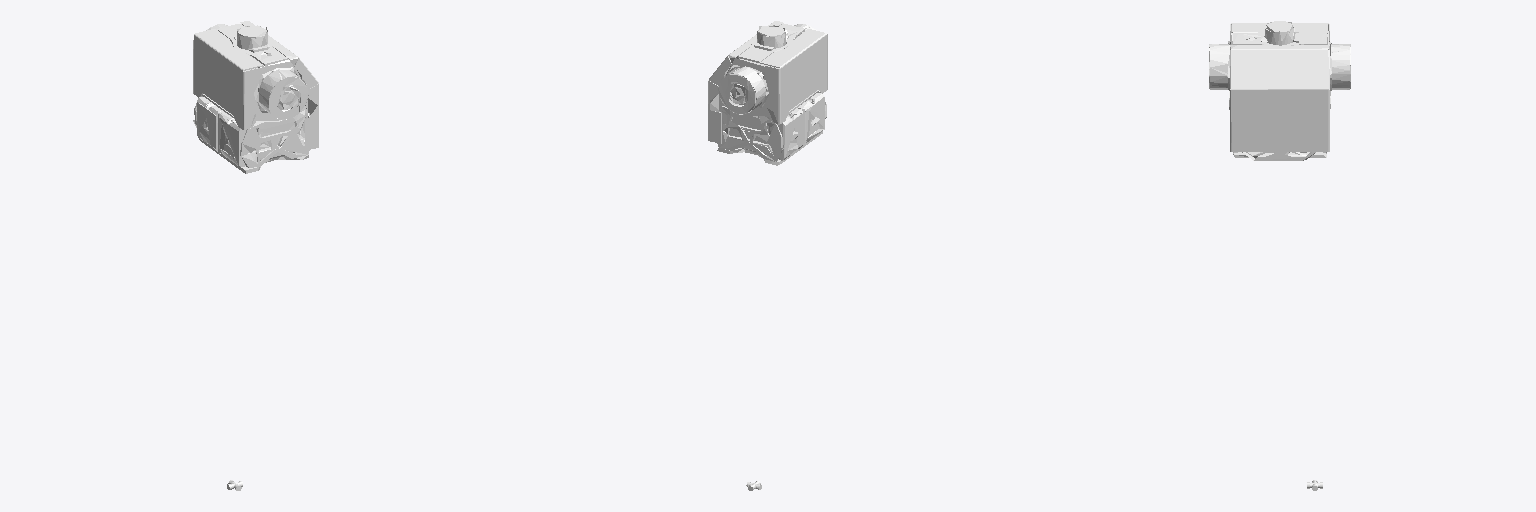
robot.urdf — biped_v3:
<?xml version="1.0" ?>
<!-- =================================================================================== -->
<!-- |    This document was autogenerated by xacro from [local-path]/workspace/kuavo-ros-control/src/humanoid-control/humanoid_interface_drake/models/biped_gen4.2/urdf/biped_v3.xacro | -->
<!-- |    EDITING THIS FILE BY HAND IS NOT RECOMMENDED                                 | -->
<!-- =================================================================================== -->
<robot name="biped_v3" xmlns:drake="https://drake.mit.edu">
  <link name="torso">
    <inertial>
      <origin xyz="-0.05314994 9.11e-06 -0.01641695" rpy="0 0 0" />
      <mass value="18.5414837" />
      <inertia ixx="0.05525329" ixy="-2.8e-05" ixz="-0.01574835" iyy="0.04625376" iyz="1.212e-05" izz="0.05615769" />
    </inertial>
    <visual>
      <origin xyz="0 0 0" rpy="0 0 0" />
      <geometry>
        <mesh filename="../../meshes/torso.STL" />
      </geometry>
      <material name="">
        <color rgba="1 1 1 1" />
      </material>
    </visual>
    <!-- <collision>
      <origin xyz="0 0 0" rpy="0 0 0" />
      <geometry>
        <mesh filename="../../meshes/torso.STL" />
      </geometry>
    </collision> -->
  </link>
  <link name="waist_yaw">
    <inertial>
      <origin xyz="0.00052643 -0.00072999 0.14211467" rpy="0 0 0" />
      <mass value="15.18745152" />
      <inertia ixx="0.22034662" ixy="0.0001736" ixz="0.00293947" iyy="0.1532304" iyz="0.00123948" izz="0.16566744" />
    </inertial>
    <visual>
      <origin xyz="0 0 0" rpy="0 0 0" />
      <geometry>
        <mesh filename="../../meshes/waist_yaw.STL" />
      </geometry>
      <material name="">
        <color rgba="1 1 1 1" />
      </material>
    </visual>
  </link>
  <joint name="waist_yaw" type="fixed">
    <origin xyz="0 0 0.107" rpy="0 0 0" />
    <parent link="torso" />
    <child link="waist_yaw" />
    <axis xyz="0 0 1" />
    <limit lower="-0.314159265358979" upper="0.663225115757845" effort="180.0" velocity="23.55" />
  </joint>
  <link name="leg_l1_link">
    <inertial>
      <origin xyz="-0.00430148 -2.708e-05 -0.00851195" rpy="0 0 0" />
      <mass value="1.71093115" />
      <inertia ixx="0.00206092" ixy="2e-05" ixz="6.944e-05" iyy="0.00277274" iyz="-5.1e-05" izz="0.00370826" />
    </inertial>
    <visual>
      <origin xyz="0 0 0" rpy="0 0 0" />
      <geometry>
        <mesh filename="../../meshes/l_leg_roll.STL" />
      </geometry>
      <material name="">
        <color rgba="1 1 1 1" />
      </material>
    </visual>
  </link>
  <joint name="leg_l1_joint" type="revolute">
    <origin xyz="-0.0024999 0.087 -0.066" rpy="0 0 0" />
    <parent link="torso" />
    <child link="leg_l1_link" />
    <axis xyz="1 0 0" />
    <limit lower="-0.314159265358979" upper="0.663225115757845" effort="180.0" velocity="23.55" />
    <dynamics damping="0.2" friction="0.1" />
  </joint>
  <transmission type="SimpleTransmission">
    <joint name="leg_l1_joint" />
    <actuator name="leg_l1_joint_motor" />
  </transmission>
  <link name="leg_l2_link">
    <inertial>
      <origin xyz="0.0 -0.00231118 -0.09062539" rpy="0 0 0" />
      <mass value="0.58029165" />
      <inertia ixx="0.00223984" ixy="0.0" ixz="3e-05" iyy="0.00123175" iyz="-7e-05" izz="0.00146391" />
    </inertial>
    <visual>
      <origin xyz="0 0 0" rpy="0 0 0" />
      <geometry>
        <mesh filename="../../meshes/l_leg_yaw.STL" />
      </geometry>
      <material name="">
        <color rgba="1 1 1 1" />
      </material>
    </visual>
  </link>
  <joint name="leg_l2_joint" type="revolute">
    <origin xyz="0 0 0" rpy="0 0 0" />
    <parent link="leg_l1_link" />
    <child link="leg_l2_link" />
    <axis xyz="0 0 1" />
    <limit lower="-0.872664625997165" upper="0.785398163397448" effort="100.0" velocity="41.3433333333333" />
    <dynamics damping="0.2" friction="0.1" />
  </joint>
  <transmission type="SimpleTransmission">
    <joint name="leg_l2_joint" />
    <actuator name="leg_l2_joint_motor" />
  </transmission>
  <link name="leg_l3_link">
    <inertial>
      <origin xyz="0.00150537 0.01199614 -0.08411619" rpy="0 0 0" />
      <mass value="4.50393141" />
      <inertia ixx="0.0389365" ixy="7.866e-05" ixz="0.00102086" iyy="0.03942609" iyz="0.00219138" izz="0.00999961" />
    </inertial>
    <visual>
      <origin xyz="0 0 0" rpy="0 0 0" />
      <geometry>
        <mesh filename="../../meshes/l_leg_pitch.STL" />
      </geometry>
      <material name="">
        <color rgba="1 1 1 1" />
      </material>
    </visual>
  </link>
  <joint name="leg_l3_joint" type="revolute">
    <origin xyz="0.000500354536093913 -0.00100000000000011 -0.1287" rpy="0 0 0" />
    <parent link="leg_l2_link" />
    <child link="leg_l3_link" />
    <axis xyz="0 1 0" />
    <limit lower="-2.00712863979348" upper="1.5707963267949" effort="100.0" velocity="41.3433333333333" />
    <dynamics damping="0.2" friction="0.1" />
  </joint>
  <transmission type="SimpleTransmission">
    <joint name="leg_l3_joint" />
    <actuator name="leg_l3_joint_motor" />
  </transmission>
  <link name="leg_l4_link">
    <inertial>
      <origin xyz="0.00696242 5.314e-05 -0.11549851" rpy="0 0 0" />
      <mass value="1.62776815" />
      <inertia ixx="0.01243912" ixy="-2.3e-05" ixz="5.881e-05" iyy="0.01229563" iyz="-2.895e-05" izz="0.00097937" />
    </inertial>
    <visual>
      <origin xyz="0 0 0" rpy="0 0 0" />
      <geometry>
        <mesh filename="../../meshes/l_knee.STL" />
      </geometry>
      <material name="">
        <color rgba="1 1 1 1" />
      </material>
    </visual>
  </link>
  <joint name="leg_l4_joint" type="revolute">
    <origin xyz="-6.87185435835039E-05 0 -0.284" rpy="0 0 0" />
    <parent link="leg_l3_link" />
    <child link="leg_l4_link" />
    <axis xyz="0 1 0" />
    <limit lower="0.0" upper="2.53072741539178" effort="180.0" velocity="23.55" />
    <dynamics damping="0.2" friction="0.1" />
  </joint>
  <transmission type="SimpleTransmission">
    <joint name="leg_l4_joint" />
    <actuator name="leg_l4_joint_motor" />
  </transmission>
  <link name="leg_l5_link">
    <inertial>
      <origin xyz="0.0 0.0 0.0" rpy="0 0 0" />
      <mass value="0.07193524" />
      <inertia ixx="6.9e-05" ixy="0.0" ixz="0.0" iyy="6.9e-05" iyz="0.0" izz="1.218e-05" />
    </inertial>
    <visual>
      <origin xyz="0 0 0" rpy="0 0 0" />
      <geometry>
        <mesh filename="../../meshes/l_foot_pitch.STL" />
      </geometry>
      <material name="">
        <color rgba="1 1 1 1" />
      </material>
    </visual>
  </link>
  <joint name="leg_l5_joint" type="revolute">
    <origin xyz="-0.000431635992531742 0 -0.346000000000001" rpy="0 0 0" />
    <parent link="leg_l4_link" />
    <child link="leg_l5_link" />
    <axis xyz="0 1 0" />
    <limit lower="-0.872664625997165" upper="0.349065850398866" effort="36.0" velocity="23.0266666666667" />
    <dynamics damping="0.2" friction="0.1" />
  </joint>
  <transmission type="SimpleTransmission">
    <joint name="leg_l5_joint" />
    <actuator name="leg_l5_joint_motor" />
  </transmission>
  <link name="leg_l6_link">
    <inertial>
      <origin xyz="0.03732754 -2.22e-06 -0.03883977" rpy="0 0 0" />
      <mass value="0.49861272" />
      <inertia ixx="0.00039242" ixy="3e-05" ixz="4.664e-05" iyy="0.00158655" iyz="0.0" izz="0.00172576" />
    </inertial>
    <visual>
      <origin xyz="0 0 0" rpy="0 0 0" />
      <geometry>
        <mesh filename="../../meshes/l_foot_roll.STL" />
      </geometry>
      <material name="">
        <color rgba="1 1 1 1" />
      </material>
    </visual>
  </link>
  <joint name="leg_l6_joint" type="revolute">
    <origin xyz="0 0 0" rpy="0 0 0" />
    <parent link="leg_l5_link" />
    <child link="leg_l6_link" />
    <axis xyz="1 0 0" />
    <limit lower="-0.261799387799149" upper="0.261799387799149" effort="36.0" velocity="23.0266666666667" />
    <dynamics damping="0.2" friction="0.1" />
  </joint>
  <transmission type="SimpleTransmission">
    <joint name="leg_l6_joint" />
    <actuator name="leg_l6_joint_motor" />
  </transmission>
  <frame link="leg_l6_link" name="l_foot_sole" xyz="0.04883799999999999 0.0 -0.0595" />
  <frame link="leg_l6_link" name="l_foot_toe" xyz="0.17084 0.0 -0.0595" />
  <frame link="leg_l6_link" name="l_foot_heel" xyz="-0.073164 0.0 -0.0595" />
  <link name="leg_r1_link">
    <inertial>
      <origin xyz="-0.00430146 2.709e-05 -0.00851195" rpy="0 0 0" />
      <mass value="1.71093008" />
      <inertia ixx="0.00206092" ixy="-2e-05" ixz="6.944e-05" iyy="0.00277274" iyz="5.1e-05" izz="0.00370826" />
    </inertial>
    <visual>
      <origin xyz="0 0 0" rpy="0 0 0" />
      <geometry>
        <mesh filename="../../meshes/r_leg_roll.STL" />
      </geometry>
      <material name="">
        <color rgba="1 1 1 1" />
      </material>
    </visual>
  </link>
  <joint name="leg_r1_joint" type="revolute">
    <origin xyz="-0.0024999 -0.087 -0.066" rpy="0 0 0" />
    <parent link="torso" />
    <child link="leg_r1_link" />
    <axis xyz="1 0 0" />
    <limit lower="-0.663225115757845" upper="0.314159265358979" effort="180.0" velocity="23.55" />
    <dynamics damping="0.2" friction="0.1" />
  </joint>
  <transmission type="SimpleTransmission">
    <joint name="leg_r1_joint" />
    <actuator name="leg_r1_joint_motor" />
  </transmission>
  <link name="leg_r2_link">
    <inertial>
      <origin xyz="0.0 0.00231118 -0.09062539" rpy="0 0 0" />
      <mass value="0.58029165" />
      <inertia ixx="0.00223984" ixy="0.0" ixz="-3e-05" iyy="0.00123175" iyz="7e-05" izz="0.00146391" />
    </inertial>
    <visual>
      <origin xyz="0 0 0" rpy="0 0 0" />
      <geometry>
        <mesh filename="../../meshes/r_leg_yaw.STL" />
      </geometry>
      <material name="">
        <color rgba="1 1 1 1" />
      </material>
    </visual>
  </link>
  <joint name="leg_r2_joint" type="revolute">
    <origin xyz="0 0 0" rpy="0 0 0" />
    <parent link="leg_r1_link" />
    <child link="leg_r2_link" />
    <axis xyz="0 0 1" />
    <limit lower="-0.785398163397448" upper="0.872664625997165" effort="100.0" velocity="41.3433333333333" />
    <dynamics damping="0.2" friction="0.1" />
  </joint>
  <transmission type="SimpleTransmission">
    <joint name="leg_r2_joint" />
    <actuator name="leg_r2_joint_motor" />
  </transmission>
  <link name="leg_r3_link">
    <inertial>
      <origin xyz="0.00208315 -0.01199644 -0.08411379" rpy="0 0 0" />
      <mass value="4.50385993" />
      <inertia ixx="0.03893478" ixy="-7.792e-05" ixz="0.00103064" iyy="0.03942522" iyz="-0.00219154" izz="0.01000016" />
    </inertial>
    <visual>
      <origin xyz="0 0 0" rpy="0 0 0" />
      <geometry>
        <mesh filename="../../meshes/r_leg_pitch.STL" />
      </geometry>
      <material name="">
        <color rgba="1 1 1 1" />
      </material>
    </visual>
  </link>
  <joint name="leg_r3_joint" type="revolute">
    <origin xyz="-4.88006581312577E-05 0 -0.1287" rpy="0 0 0" />
    <parent link="leg_r2_link" />
    <child link="leg_r3_link" />
    <axis xyz="0 1 0" />
    <limit lower="-2.00712863979348" upper="1.5707963267949" effort="100.0" velocity="41.3433333333333" />
    <dynamics damping="0.2" friction="0.1" />
  </joint>
  <transmission type="SimpleTransmission">
    <joint name="leg_r3_joint" />
    <actuator name="leg_r3_joint_motor" />
  </transmission>
  <link name="leg_r4_link">
    <inertial>
      <origin xyz="0.00743231 -5.343e-05 -0.11558701" rpy="0 0 0" />
      <mass value="1.62655699" />
      <inertia ixx="0.01241258" ixy="2.3e-05" ixz="6.289e-05" iyy="0.0122692" iyz="2.902e-05" izz="0.00097927" />
    </inertial>
    <visual>
      <origin xyz="0 0 0" rpy="0 0 0" />
      <geometry>
        <mesh filename="../../meshes/r_knee.STL" />
      </geometry>
      <material name="">
        <color rgba="1 1 1 1" />
      </material>
    </visual>
  </link>
  <joint name="leg_r4_joint" type="revolute">
    <origin xyz="0.000147138572785148 0 -0.283999982974744" rpy="0 0 0" />
    <parent link="leg_r3_link" />
    <child link="leg_r4_link" />
    <axis xyz="0 1 0" />
    <limit lower="0.0" upper="2.53072741539178" effort="180.0" velocity="23.55" />
    <dynamics damping="0.2" friction="0.1" />
  </joint>
  <transmission type="SimpleTransmission">
    <joint name="leg_r4_joint" />
    <actuator name="leg_r4_joint_motor" />
  </transmission>
  <link name="leg_r5_link">
    <inertial>
      <origin xyz="0.0 0.0 0.0" rpy="0 0 0" />
      <mass value="0.07193524" />
      <inertia ixx="6.9e-05" ixy="0.0" ixz="0.0" iyy="6.9e-05" iyz="0.0" izz="1.218e-05" />
    </inertial>
    <visual>
      <origin xyz="0 0 0" rpy="0 0 0" />
      <geometry>
        <mesh filename="../../meshes/r_foot_pitch.STL" />
      </geometry>
      <material name="">
        <color rgba="1 1 1 1" />
      </material>
    </visual>
  </link>
  <joint name="leg_r5_joint" type="revolute">
    <origin xyz="0.000119806050928577 0 -0.345999979257963" rpy="0 0 0" />
    <parent link="leg_r4_link" />
    <child link="leg_r5_link" />
    <axis xyz="0 1 0" />
    <limit lower="-0.872664625997165" upper="0.349065850398866" effort="36.0" velocity="23.0266666666667" />
    <dynamics damping="0.2" friction="0.1" />
  </joint>
  <transmission type="SimpleTransmission">
    <joint name="leg_r5_joint" />
    <actuator name="leg_r5_joint_motor" />
  </transmission>
  <link name="leg_r6_link">
    <inertial>
      <origin xyz="0.03734098 -2.22e-06 -0.03882684" rpy="0 0 0" />
      <mass value="0.49861272" />
      <inertia ixx="0.00039238" ixy="3e-05" ixz="4.618e-05" iyy="0.00158655" iyz="0.0" izz="0.00172579" />
    </inertial>
    <visual>
      <origin xyz="0 0 0" rpy="0 0 0" />
      <geometry>
        <mesh filename="../../meshes/r_foot_roll.STL" />
      </geometry>
      <material name="">
        <color rgba="1 1 1 1" />
      </material>
    </visual>
  </link>
  <joint name="leg_r6_joint" type="revolute">
    <origin xyz="0 0 0" rpy="0 0 0" />
    <parent link="leg_r5_link" />
    <child link="leg_r6_link" />
    <axis xyz="1 0 0" />
    <limit lower="-0.261799387799149" upper="0.261799387799149" effort="36.0" velocity="23.0266666666667" />
    <dynamics damping="0.2" friction="0.1" />
  </joint>
  <transmission type="SimpleTransmission">
    <joint name="leg_r6_joint" />
    <actuator name="leg_r6_joint_motor" />
  </transmission>
  <frame link="leg_r6_link" name="r_foot_sole" xyz="0.04883799999999999 0.0 -0.0595" />
  <frame link="leg_r6_link" name="r_foot_toe" xyz="0.17084 0.0 -0.0595" />
  <frame link="leg_r6_link" name="r_foot_heel" xyz="-0.073164 0.0 -0.0595" />
</robot>

--- What the picture shows (computed from the rendered views, not written in the file) ---
3 views of the same robot in one strip: view 1: azimuth 30°, elevation 25°; view 2: azimuth 150°, elevation 25°; view 3: azimuth 270°, elevation 25° (orthographic).
Robot: biped_v3 — 14 links, 13 joints (12 revolute, 1 fixed); root link torso; default pose: all joints at 0.
Links seen in each view (by area): view 1: waist_yaw; view 2: waist_yaw; view 3: waist_yaw.
Link boxes in pixels (x1,y1,x2,y2): waist_yaw: [193, 21, 318, 173]; waist_yaw: [708, 21, 827, 165]; waist_yaw: [1209, 21, 1350, 160].
Size in the robot's own frame: 0.2221 by 0.348 by 1.26 metres.
2 mesh visuals loaded from 14 distinct referenced files (2 binary STL); not drawn: 12 (reference not matched to a file when rendering).